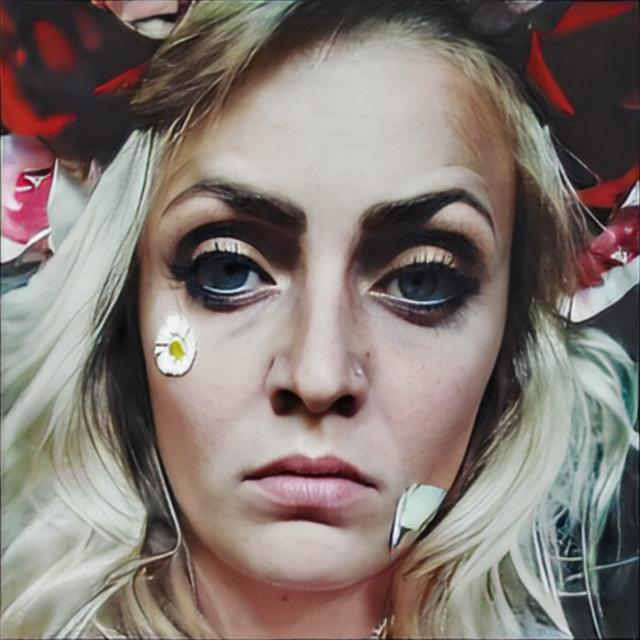sad: (140, 63, 508, 588)
